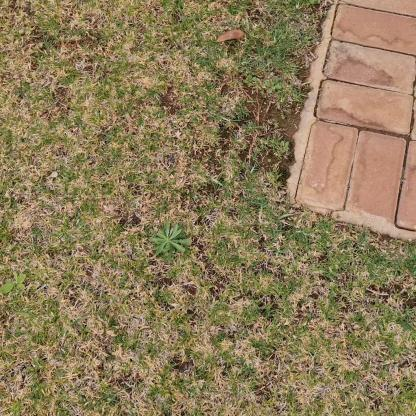Weeds: (150, 220, 191, 258), (1, 271, 27, 294), (265, 78, 282, 94), (244, 75, 258, 89), (281, 141, 290, 153)
